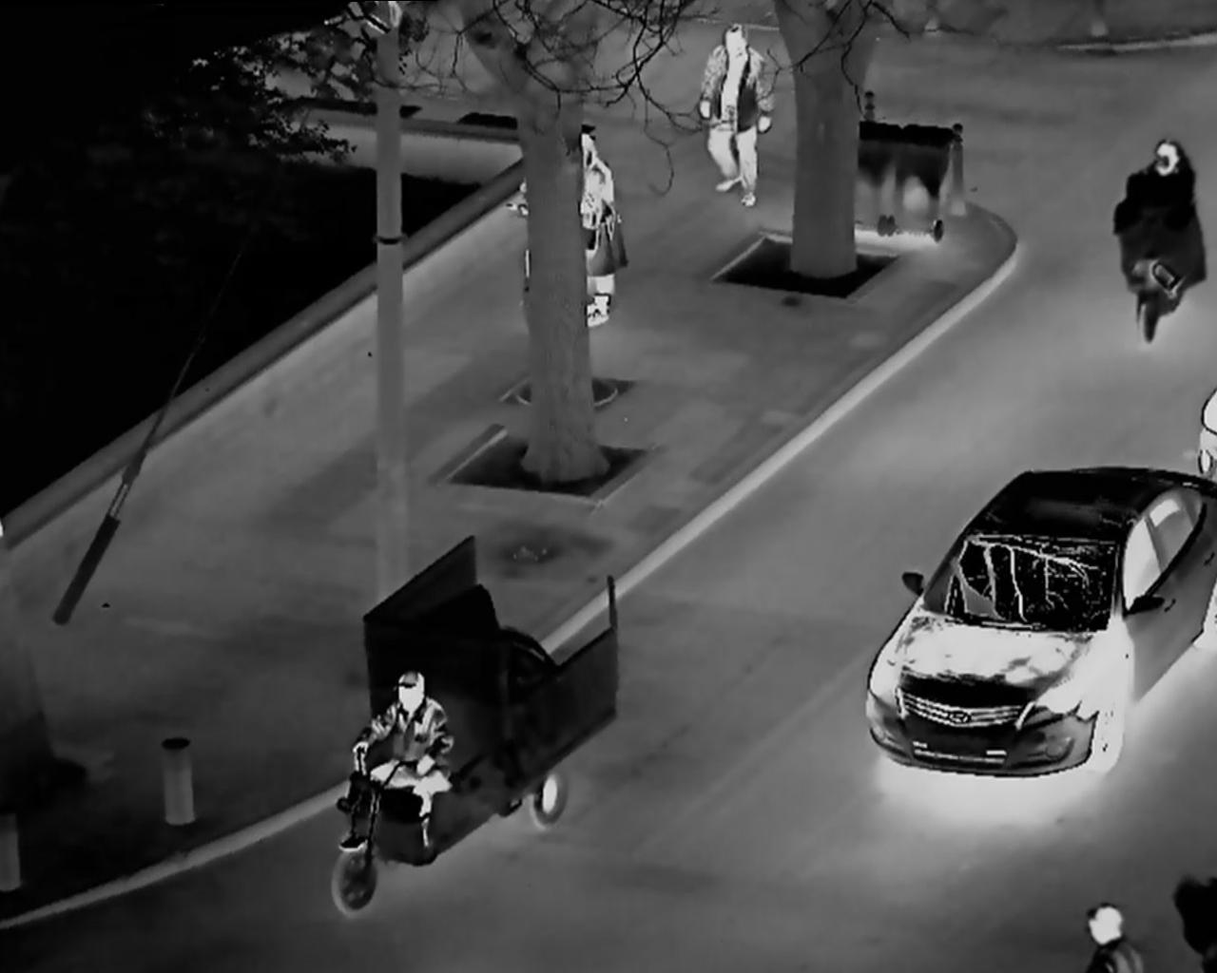person: (339, 652, 468, 859), (1113, 122, 1195, 352), (687, 14, 782, 208), (570, 128, 638, 325)
